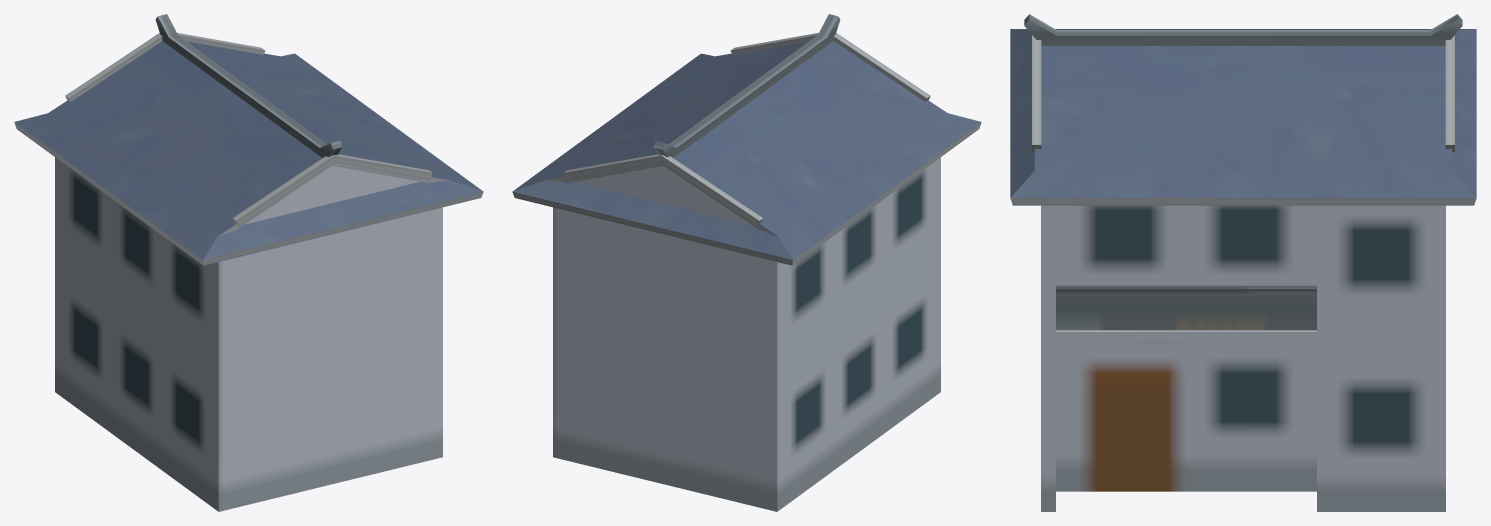
Rendered from Coach_Building_Residential_L3_02_Mod.fbx.
3 views of the same model, side by side, from view 1: azimuth 30°, elevation 25°; view 2: azimuth 150°, elevation 25°; view 3: azimuth 270°, elevation 25° (orthographic). The views are drawn at different scales.
Visible parts, largest first — view 1: Coach_Building_Residential_L3_02_Mod; view 2: Coach_Building_Residential_L3_02_Mod; view 3: Coach_Building_Residential_L3_02_Mod.
Boxes of the visible parts, bbox=[...] form: Coach_Building_Residential_L3_02_Mod: bbox=[14, 14, 483, 511]; Coach_Building_Residential_L3_02_Mod: bbox=[512, 14, 981, 511]; Coach_Building_Residential_L3_02_Mod: bbox=[1010, 14, 1476, 511].
Size of the model in its own units: 716 by 844 by 834.
